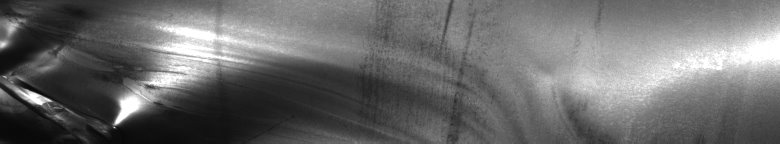ke: (4, 12, 247, 136)
